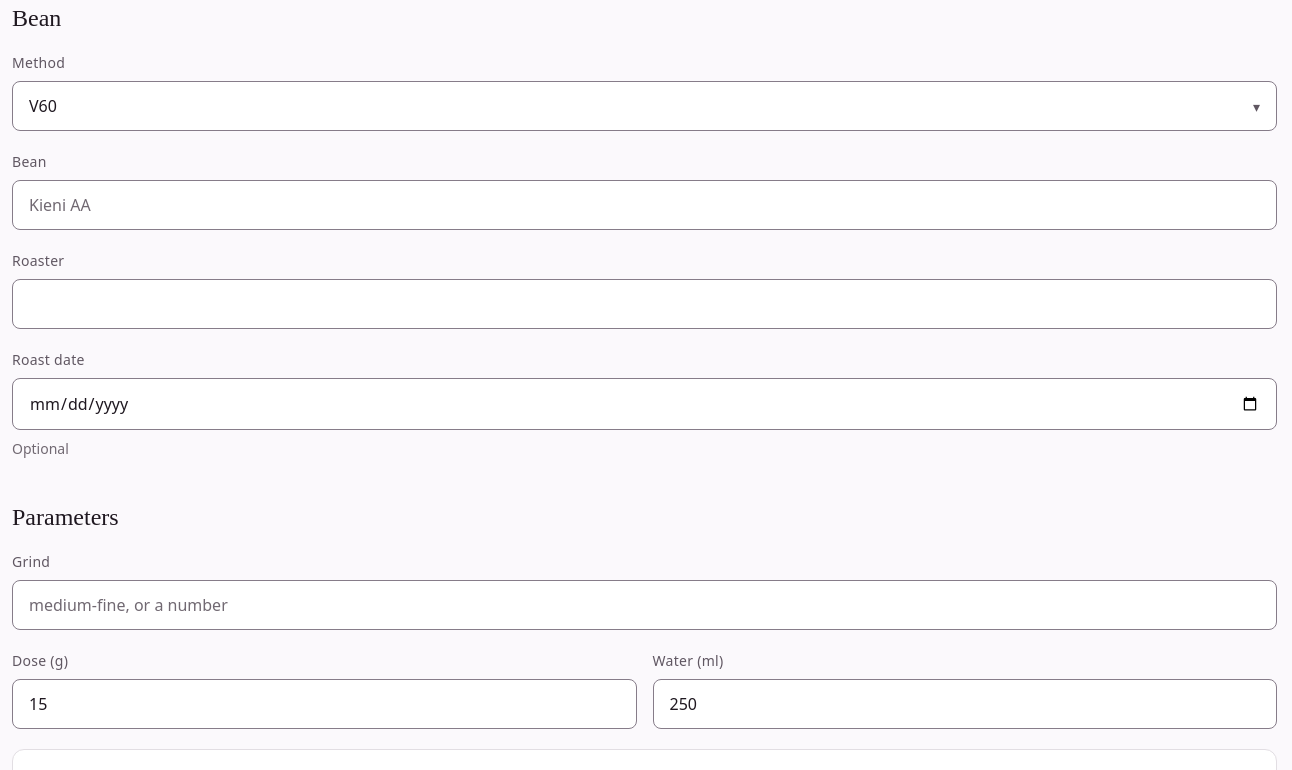
Test: BrewForm › asks for the method name only when the method is "other"
The image size is (1292, 770).
Check: the field labelled "Which method?" is not shown
Step 1. Click the dropdown named "Method" → (43, 106), box top-left (12, 81), bottom-right (1277, 131)
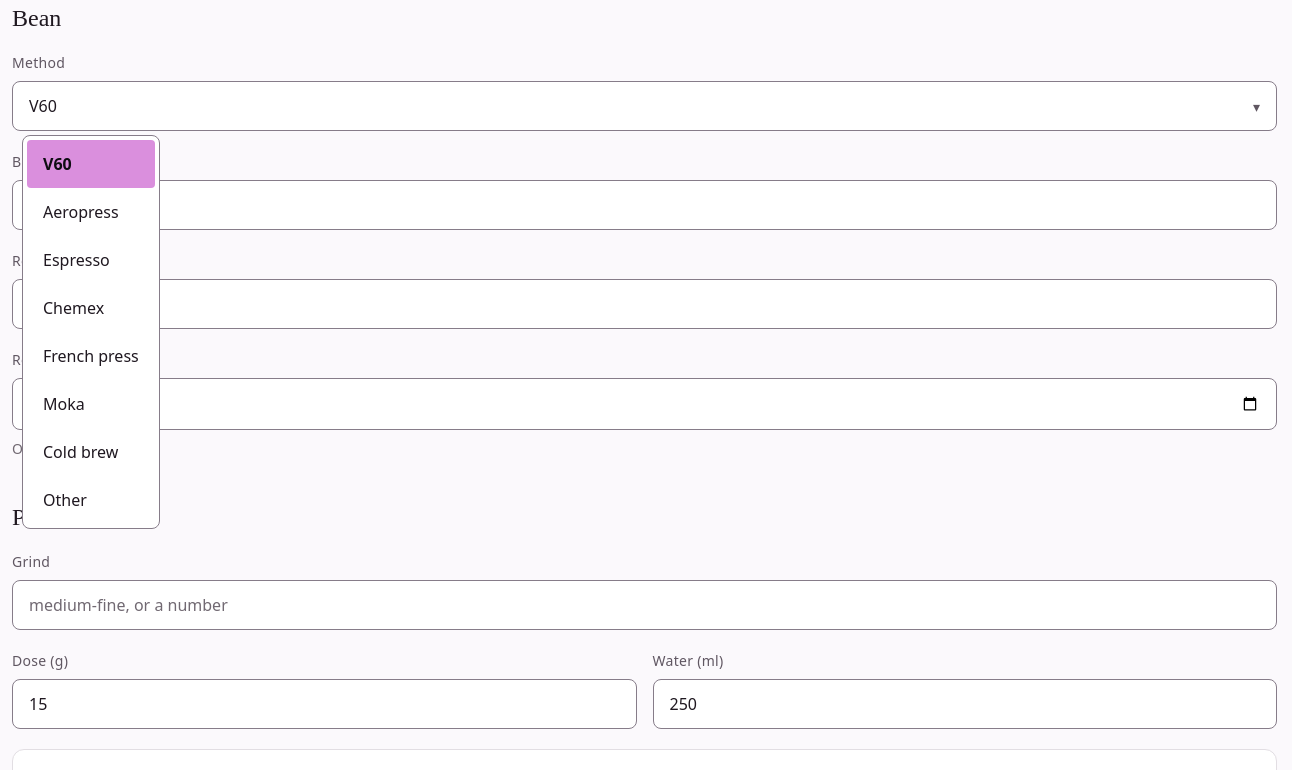
Step 2. Click the option "Other" → (65, 500), box top-left (43, 489), bottom-right (87, 511)
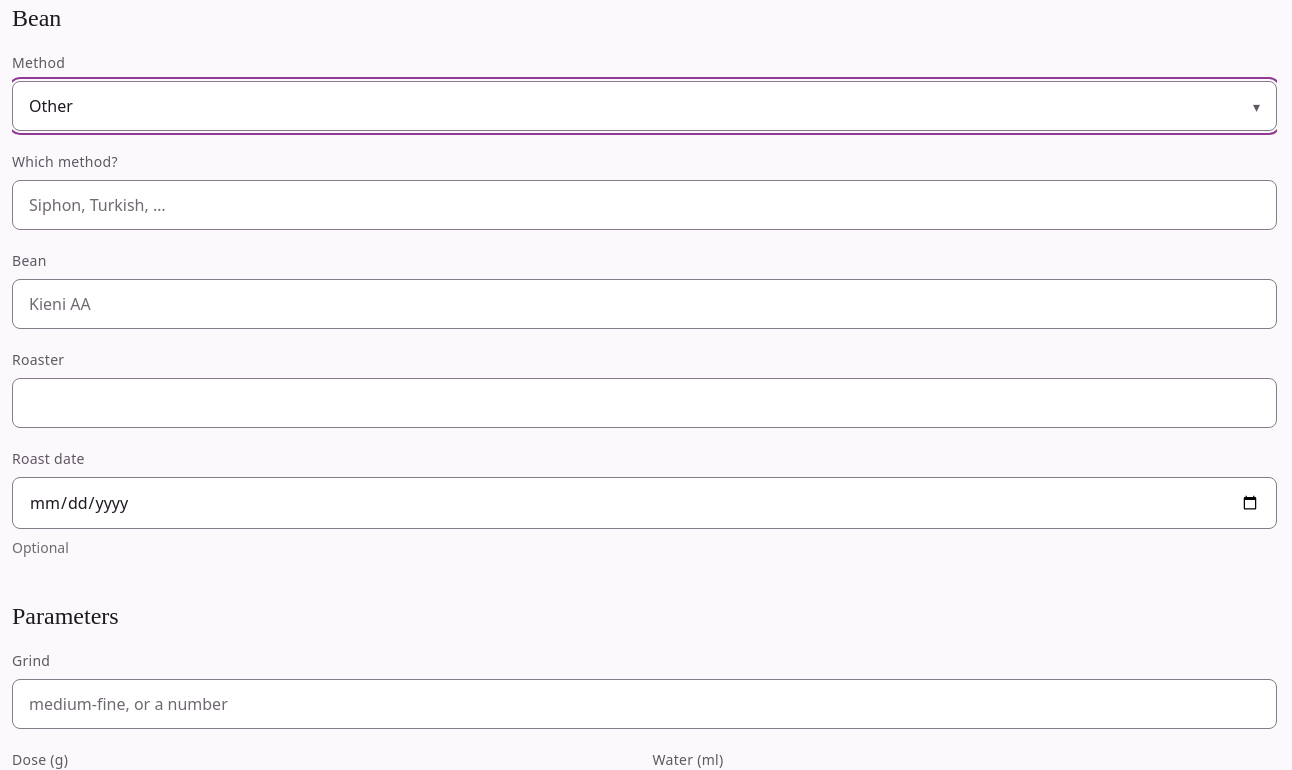
Check: the field labelled "Which method?" is shown, box top-left (12, 180), bottom-right (1277, 230)
